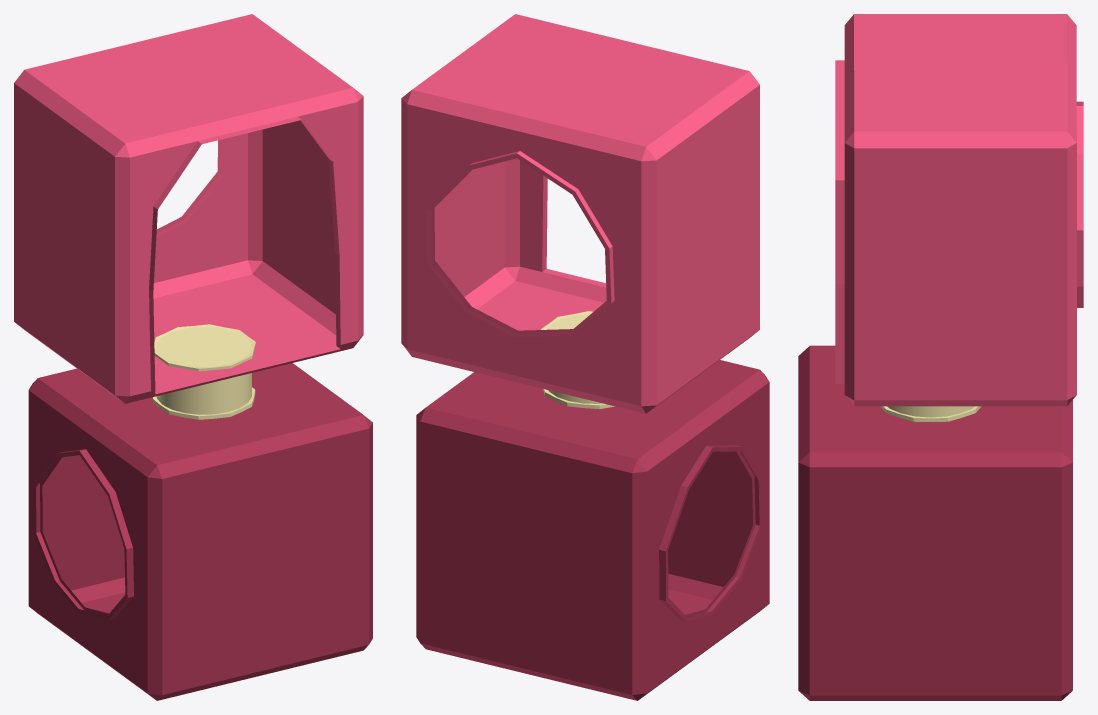
File: SM_house_5.fbx
3 renders of one model, left to right at view 1: azimuth 30°, elevation 25°; view 2: azimuth 150°, elevation 25°; view 3: azimuth 270°, elevation 25°, orthographic. The views are drawn at different scales.
Parts seen in each view (by area): view 1: SM_house_4; view 2: SM_house_4; view 3: SM_house_4.
Part boxes in pixels (box(x1,y1,x2,y2)): SM_house_4: box(14, 14, 372, 700); SM_house_4: box(401, 14, 769, 700); SM_house_4: box(798, 14, 1083, 700).
Size of the model in its own units: 850 by 904 by 1890.
